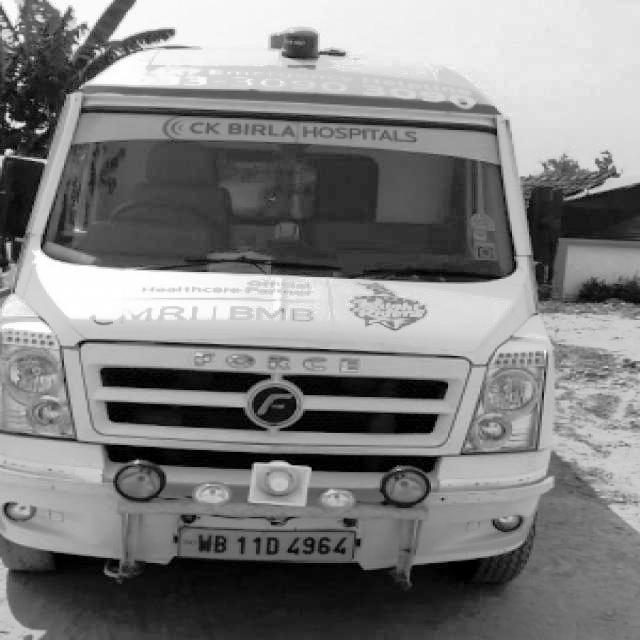LCV: (0, 27, 556, 568)
